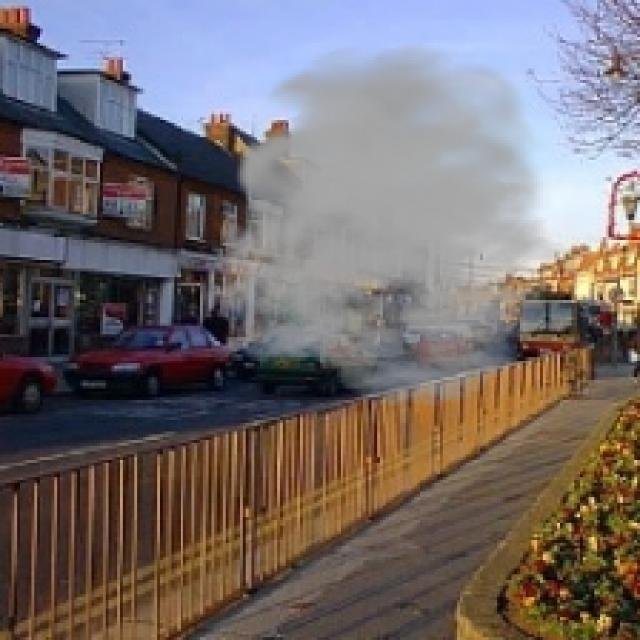smoke: (203, 43, 591, 408)
